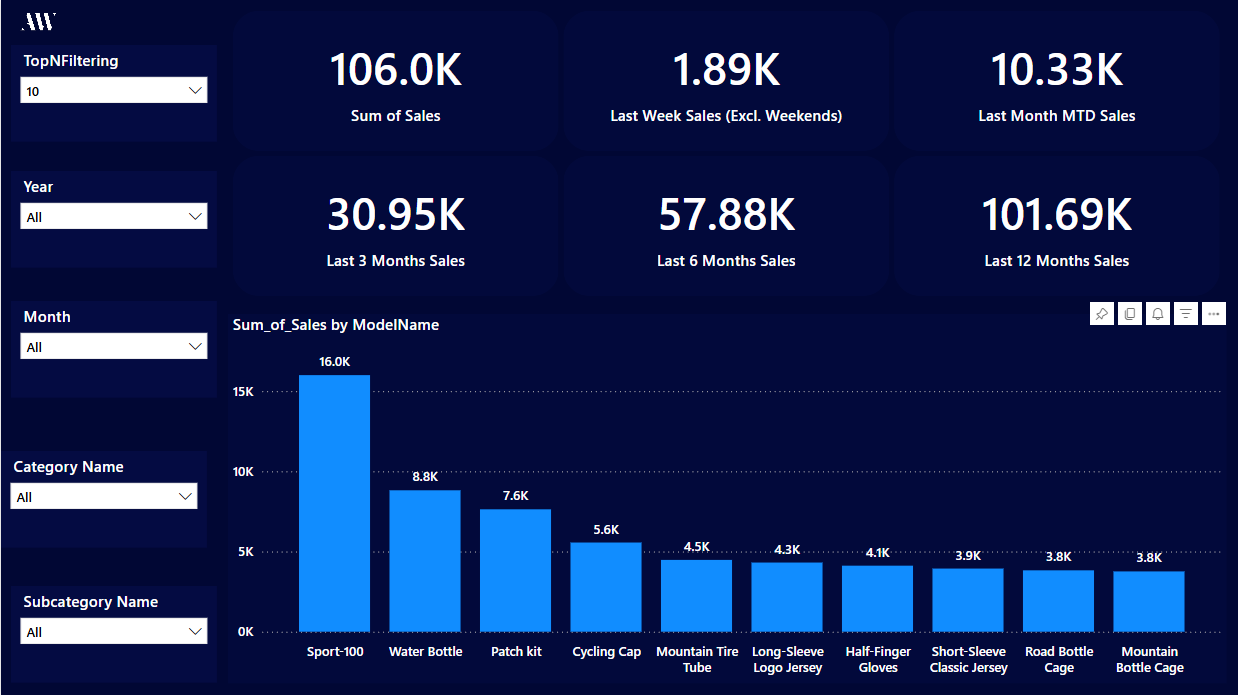

This screenshot's page, from the dashboard's own definition file:
{"tool":"powerbi","page":{"name":"Dynamic Page","canvas":[1280,720],"ordinal":3},"visuals":[{"type":"slicer","fields":{"Values":["TopNFiltering.TopNFiltering"]},"box":[10,46.7,213.3,100],"z":0},{"type":"columnChart","title":"Sum_of_Sales by ModelName","fields":{"Category":["Products.ModelName"],"Y":["Sales.Sum_of_Sales"]},"box":[235,325,1033.3,381.7],"z":1000},{"type":"slicer","fields":{"Values":["Product_Categories.CategoryName"]},"box":[0,466.7,213.3,100],"z":2000},{"type":"slicer","fields":{"Values":["Product_Subcategories.SubcategoryName"]},"box":[10,606.7,213.3,100],"z":3000},{"type":"slicer","fields":{"Values":["Calendar.Date.Variation.Date Hierarchy.Month"]},"box":[10,311.7,213.3,100],"z":4000},{"type":"slicer","fields":{"Values":["Calendar.Date.Variation.Date Hierarchy.Year"]},"box":[10,176.7,213.3,100],"z":5000},{"type":"cardVisual","fields":{"Data":["Sales.Sum_of_Sales","Sales.Last Complete Week Sales (Excl. Weekends)","Sales.Last Complete Month MTD Sales","Sales.Last 3 Months Sales","Sales.Last 6 Months Sales","Sales.Last 12 Months Sales"]},"box":[235,6.7,1033.3,305],"z":6000},{"type":"image","box":[0,0,78.3,50],"z":6001}]}

Visuals, with their boxes in screenshot pixels (x1, y1, x2, y2), scaled from the page's 1280x720 canvas onto the 1238x695 screenshot:
slicer - TopNFiltering.TopNFiltering: <box>10,45,216,142</box>
"Sum_of_Sales by ModelName" columnChart: <box>227,314,1227,682</box>
slicer - Product_Categories.CategoryName: <box>0,450,206,547</box>
slicer - Product_Subcategories.SubcategoryName: <box>10,586,216,682</box>
slicer - Calendar.Date.Variation.Date Hierarchy.Month: <box>10,301,216,397</box>
slicer - Calendar.Date.Variation.Date Hierarchy.Year: <box>10,171,216,267</box>
cardVisual - Sales.Sum_of_Sales x Sales.Last Complete Week Sales (Excl. Weekends): <box>227,6,1227,301</box>
image: <box>0,0,76,48</box>
